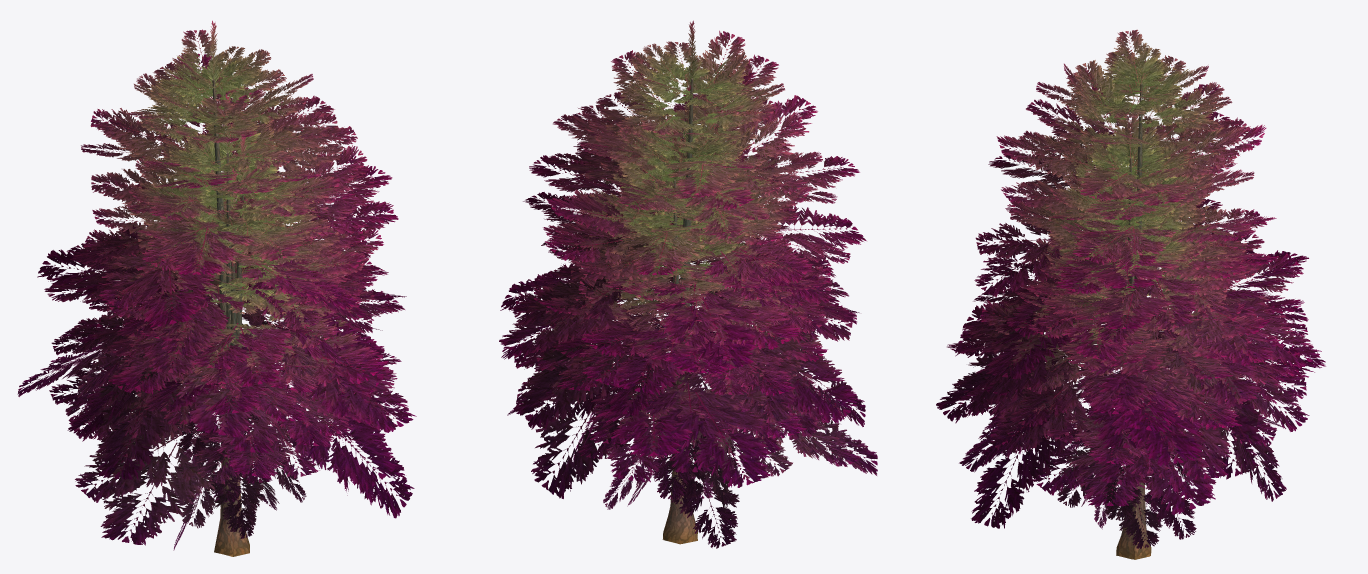
File: hero-pine-far.glb
The picture shows the model from 3 angles, left to right: view 1: azimuth 30°, elevation 25°; view 2: azimuth 150°, elevation 25°; view 3: azimuth 270°, elevation 25°; orthographic projection.
Visible parts, largest first — view 1: v2-leaf, v1-leaf, v0-leaf, v3-leaf, v2-wood, v1-wood; view 2: v2-leaf, v1-leaf, v0-leaf, v3-leaf, v2-wood; view 3: v2-leaf, v1-leaf, v3-leaf, v0-leaf, v2-wood, v1-wood.
Boxes of the visible parts, x1,y1,x2,y2 form: v2-leaf: (17, 20, 416, 518); v1-leaf: (44, 94, 404, 481); v0-leaf: (75, 168, 401, 550); v3-leaf: (49, 134, 397, 538); v2-wood: (212, 79, 246, 554); v1-wood: (223, 152, 249, 556); v2-leaf: (499, 20, 866, 499); v1-leaf: (515, 85, 856, 509); v0-leaf: (514, 155, 877, 548); v3-leaf: (507, 130, 846, 504); v2-wood: (663, 78, 697, 544); v2-leaf: (936, 29, 1321, 528); v1-leaf: (962, 114, 1307, 539); v3-leaf: (947, 161, 1325, 529); v0-leaf: (981, 179, 1300, 548); v2-wood: (1124, 83, 1151, 559); v1-wood: (1116, 158, 1151, 559).
Bounding box in the file's own units: 18.85 × 25.88 × 19.84.
2 materials, 2 textured.
